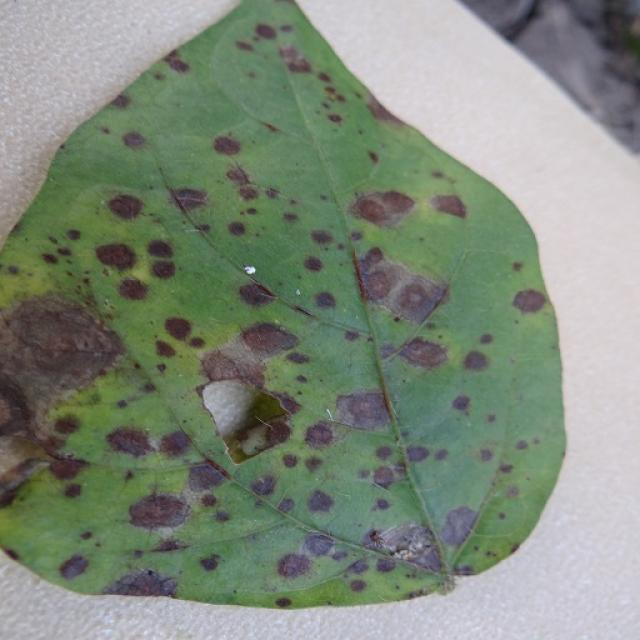Anthracnose: (198, 321, 303, 394), (361, 436, 451, 495), (331, 389, 395, 433), (350, 189, 419, 228), (126, 491, 192, 529), (0, 375, 36, 441), (102, 568, 178, 598), (238, 321, 300, 357), (392, 336, 451, 370), (200, 347, 253, 383), (438, 504, 481, 548), (509, 277, 549, 323), (364, 93, 406, 127), (106, 427, 153, 457), (393, 282, 434, 316), (94, 241, 138, 271), (403, 543, 444, 574), (186, 462, 226, 493), (105, 193, 146, 221), (47, 455, 87, 482), (170, 186, 210, 213), (279, 44, 312, 75), (430, 194, 469, 220), (237, 281, 276, 307), (158, 429, 193, 457), (277, 552, 312, 579), (58, 553, 90, 581), (116, 276, 150, 302), (356, 245, 385, 274), (163, 315, 194, 342), (304, 422, 335, 448), (302, 533, 335, 557), (225, 162, 254, 189), (264, 419, 292, 446), (306, 489, 335, 514), (145, 538, 189, 554), (212, 134, 242, 157), (146, 238, 175, 261), (461, 349, 489, 372), (250, 474, 276, 497), (150, 259, 177, 280), (372, 465, 396, 488), (121, 131, 148, 150), (163, 55, 190, 74), (322, 85, 346, 105), (405, 445, 431, 463), (154, 339, 177, 359), (313, 291, 337, 310), (302, 255, 325, 273), (310, 229, 334, 246), (108, 92, 132, 109), (346, 558, 370, 575), (254, 23, 277, 40), (451, 394, 471, 412), (226, 220, 247, 237), (62, 482, 83, 499), (199, 555, 220, 572), (276, 497, 296, 514), (238, 185, 259, 201), (375, 556, 396, 572), (281, 453, 299, 469), (3, 547, 20, 562), (349, 579, 367, 593), (235, 39, 254, 52), (261, 121, 280, 133), (478, 448, 494, 462), (504, 484, 520, 498), (65, 228, 82, 241), (375, 498, 391, 511), (41, 252, 58, 264), (275, 597, 292, 608), (457, 564, 474, 575), (479, 332, 494, 344), (367, 150, 379, 165), (327, 113, 342, 124), (515, 439, 529, 450), (499, 463, 514, 473), (512, 261, 524, 272)
Blackgram: (0, 0, 565, 606)
